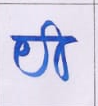i_matra: (45, 20, 71, 80)
